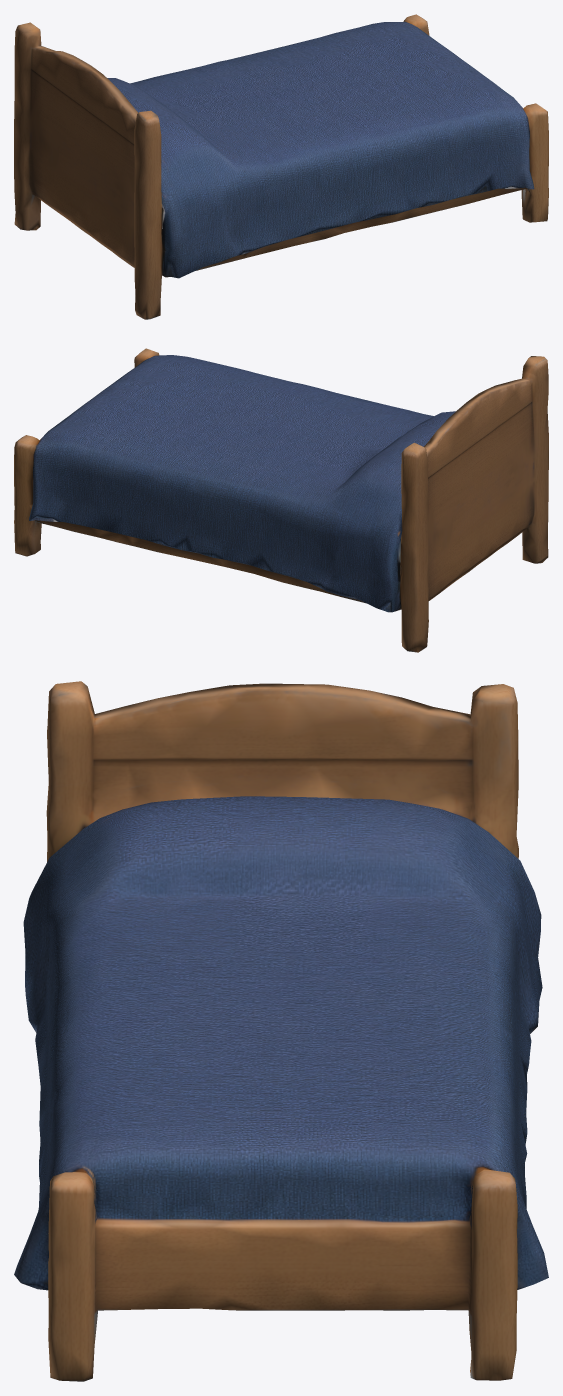
The model's file is VAR_Bedroom_Bed_Empty.fbx.
3 views of the same model, one above another, from view 1: azimuth 30°, elevation 25°; view 2: azimuth 150°, elevation 25°; view 3: azimuth 270°, elevation 25° (orthographic). The views are drawn at different scales.
Parts seen in each view (by area): view 1: texture_mapping; view 2: texture_mapping; view 3: texture_mapping.
Boxes of the visible parts, x1,y1,x2,y2 form: texture_mapping: (14,14,548,319); texture_mapping: (14,348,548,652); texture_mapping: (14,681,548,1381).
Bounding box in the file's own units: 0.995 × 0.6403 × 0.4705.
Materials: 1 (1 with a texture image).
